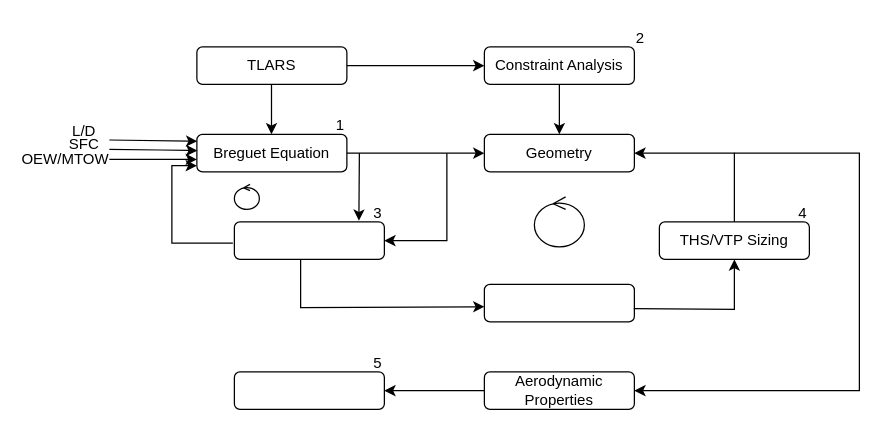
The diagram is 891 pixels wide and 431 high, and some of its shapes have lost their labels. Each missing label, with the centre of its shape:
"CG and Static Margin" goes at (558,302).
"Mass Breakdown" goes at (308,240).
"Trajectory & Performance" goes at (308,390).
